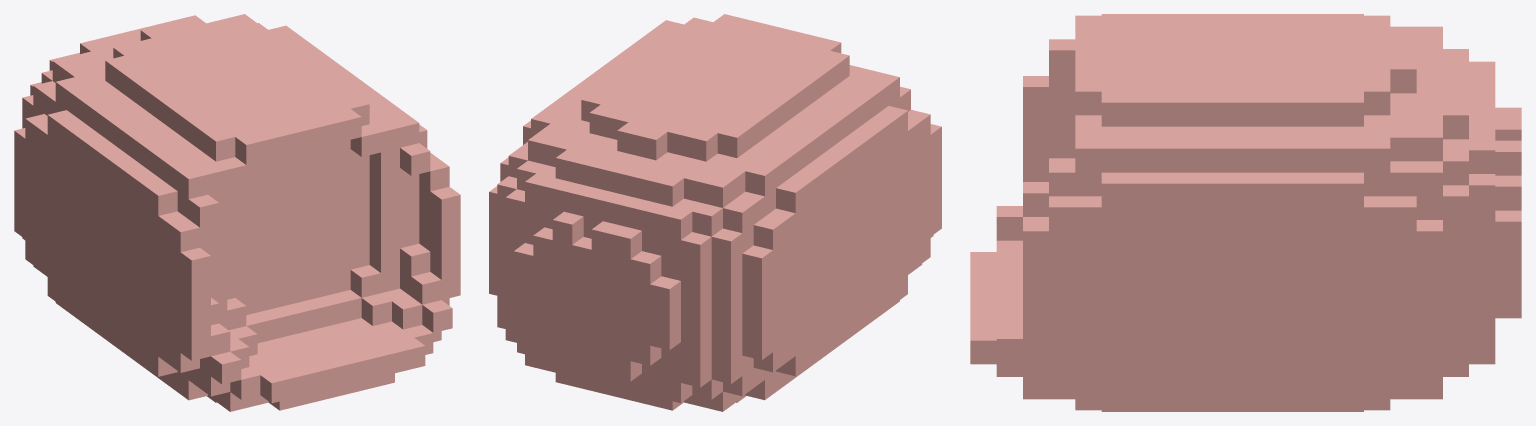
File: pig__body.glb
The picture shows the model from 3 angles, left to right: view 1: azimuth 30°, elevation 25°; view 2: azimuth 150°, elevation 25°; view 3: azimuth 270°, elevation 25°; orthographic projection. The views are drawn at different scales.
Parts seen in each view (by area): view 1: pig__body; view 2: pig__body; view 3: pig__body.
Part boxes in pixels (<box>): pig__body: <box>14,14,460,411</box>; pig__body: <box>489,14,941,411</box>; pig__body: <box>970,14,1521,411</box>.
Bounding box in the file's own units: 1.4 × 1.3 × 2.1.
Materials: 1 (1 with a texture image).
